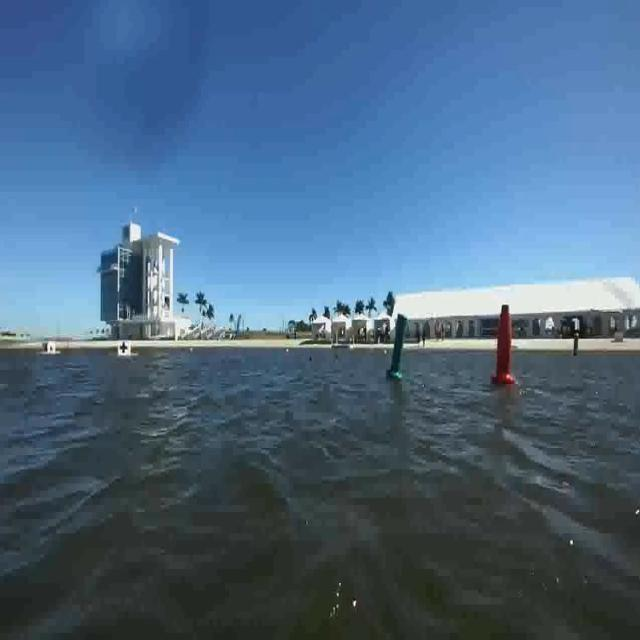green-column-buoy: (386, 311, 409, 381)
red-column-buoy: (490, 303, 516, 387)
